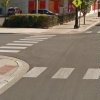crosswalk: (23, 65, 100, 80), (0, 34, 56, 53)
